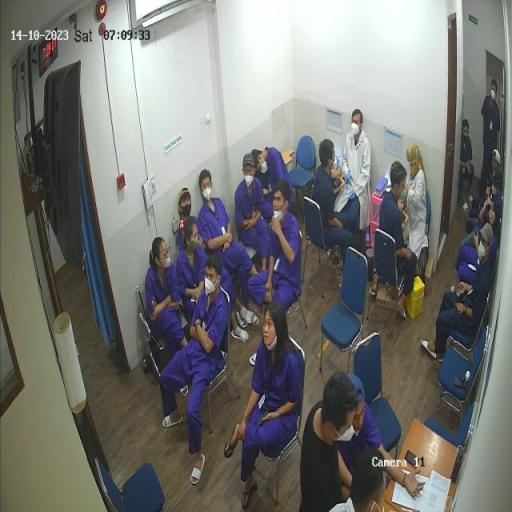person: (161, 255, 230, 485), (226, 302, 302, 509), (178, 188, 255, 343), (339, 376, 426, 511), (422, 223, 494, 361), (249, 181, 299, 366), (199, 170, 259, 309), (302, 371, 359, 512), (371, 163, 418, 320), (146, 238, 189, 398), (313, 139, 355, 289), (335, 111, 372, 259), (236, 154, 273, 272), (456, 198, 502, 287), (330, 449, 387, 512), (462, 170, 503, 251), (405, 145, 429, 279), (177, 220, 208, 317), (253, 148, 296, 215), (482, 80, 501, 197), (470, 150, 502, 219), (460, 120, 475, 213)
